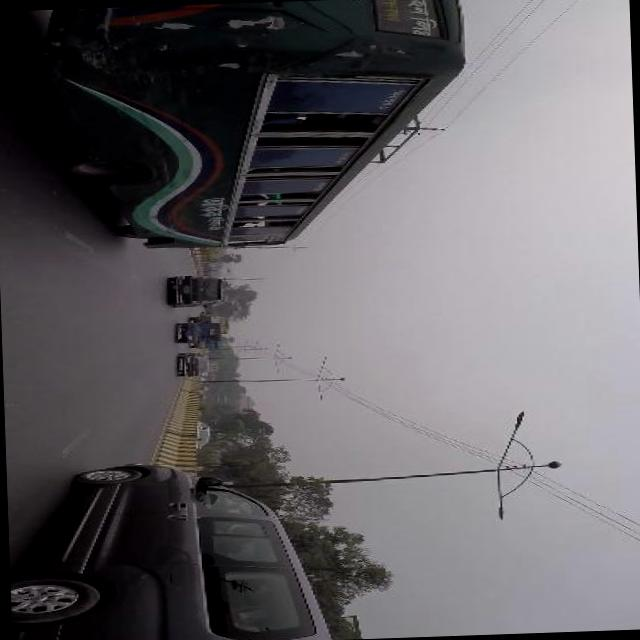bus: (33, 0, 473, 254)
car: (177, 350, 212, 376), (195, 418, 212, 446)
truck: (10, 455, 332, 640), (164, 274, 227, 310), (174, 320, 223, 344), (188, 314, 232, 334)
